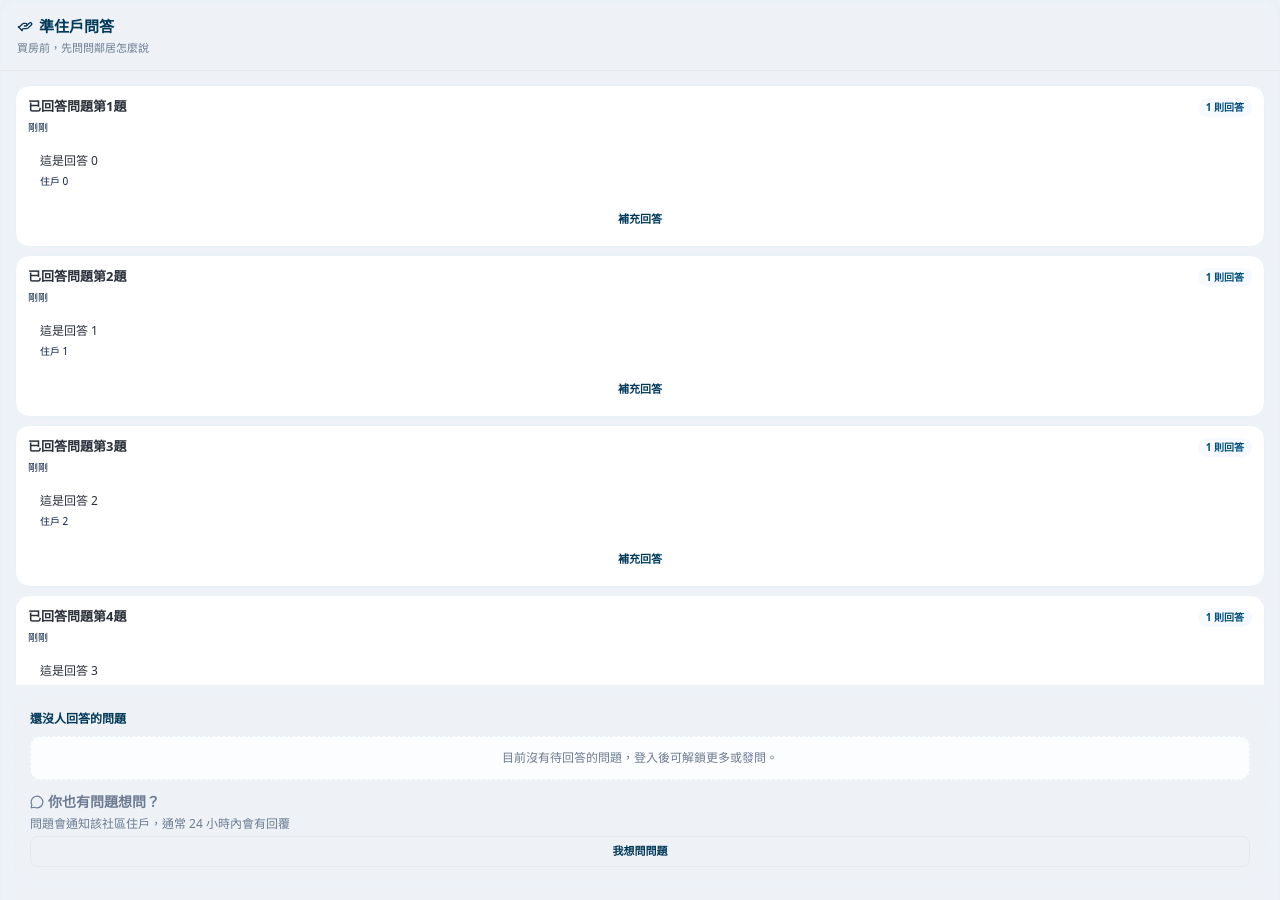
Scenario: QASection 虛擬化測試 › 非虛擬化模式 props 傳遞 › 非虛擬化列表應正確傳遞 isAnswering 狀態
# 點擊回答按鈕開啟 modal
Click the button "補充回答" below "住戶 0" at (640,220), box x1=28 y1=205 x2=1252 y2=234
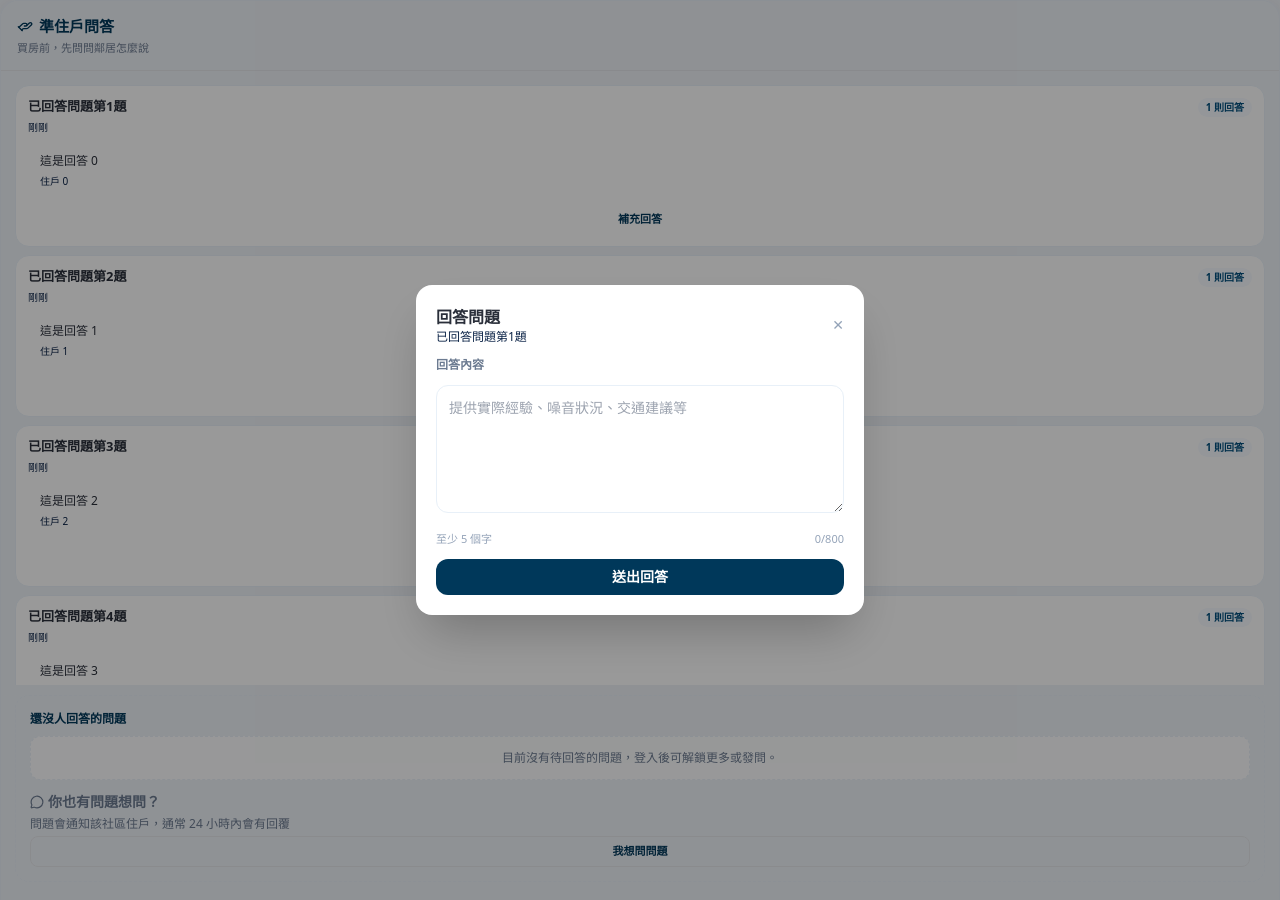
# 在 modal 中輸入內容
Type "這是測試回答內容" into the text box with placeholder "提供實際經驗、噪音狀況、交通建議等" at (640,449), box x1=436 y1=385 x2=844 y2=513
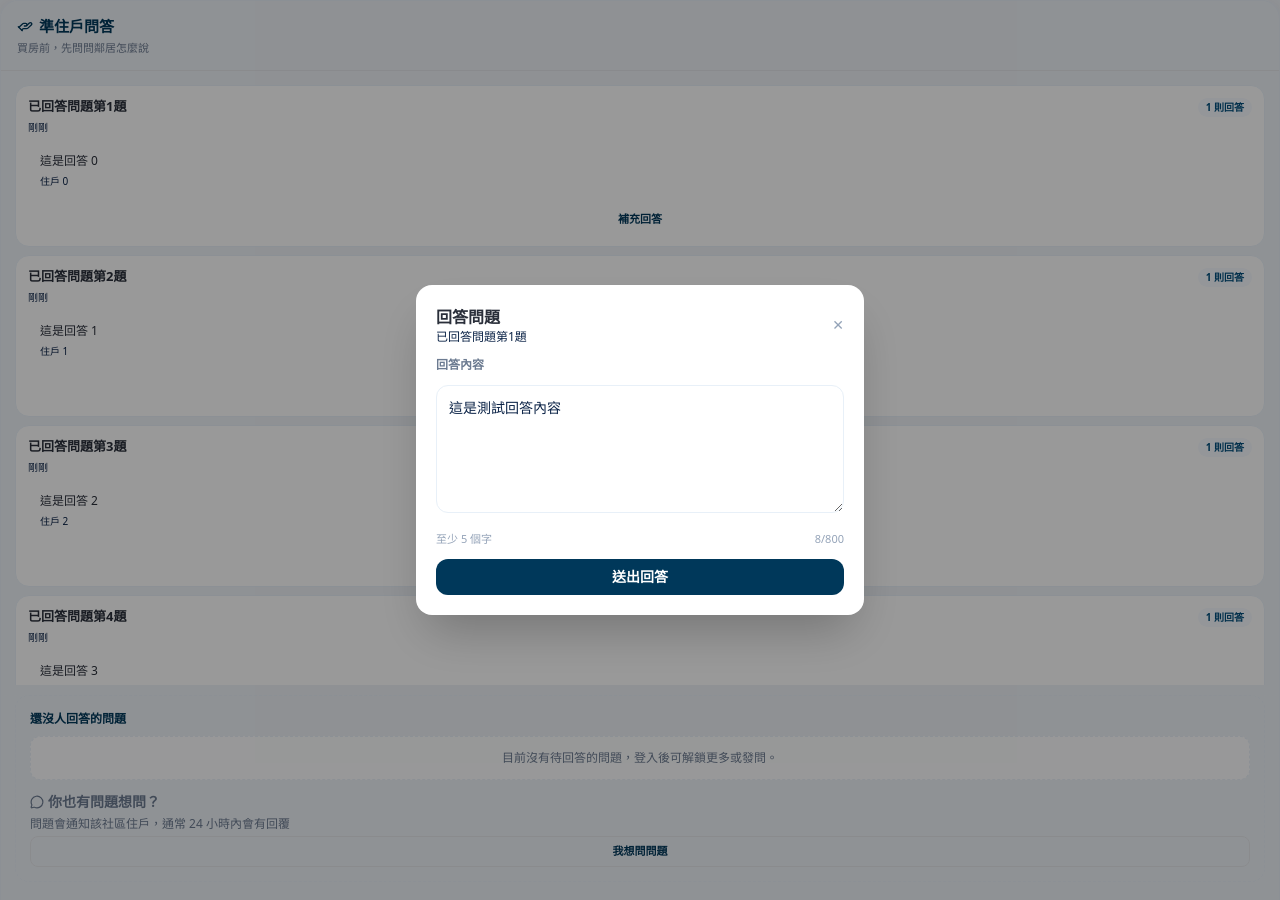
Click the button "送出回答" at (640,577), box x1=436 y1=559 x2=844 y2=595
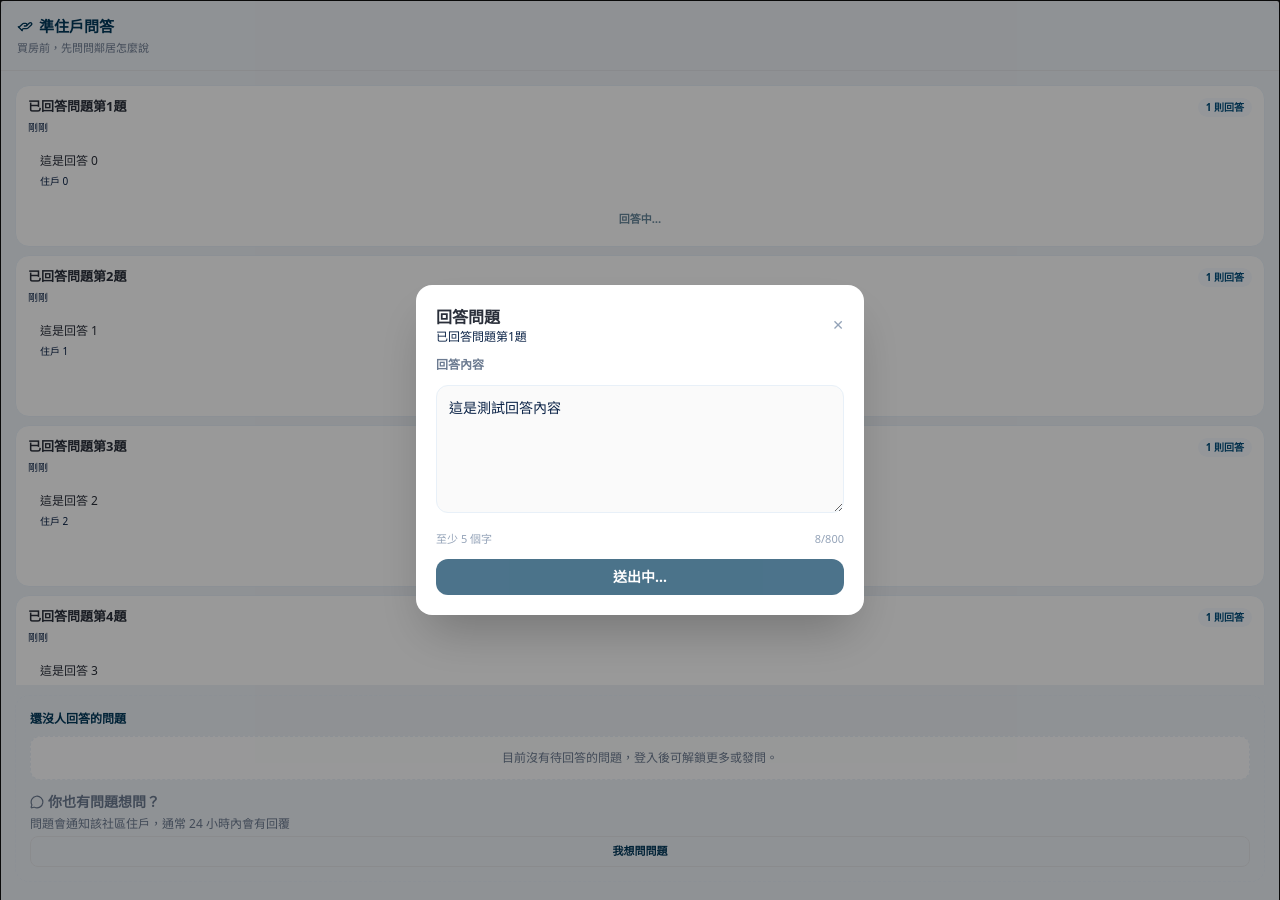
Now the button "送出中…" is shown, box x1=436 y1=559 x2=844 y2=595
